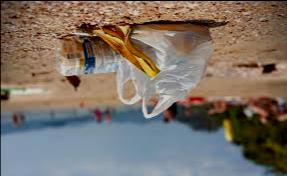Plastic: (97, 8, 218, 116), (54, 34, 137, 79)
